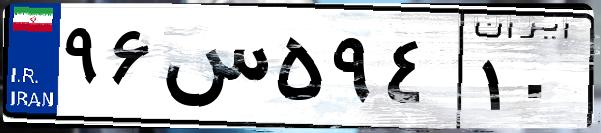0: (525, 38, 570, 115)
1: (475, 38, 525, 113)
4: (385, 28, 445, 110)
5: (270, 28, 330, 110)
6: (110, 28, 158, 98)
9: (330, 28, 385, 110), (57, 26, 110, 100)
س: (158, 20, 270, 120)
